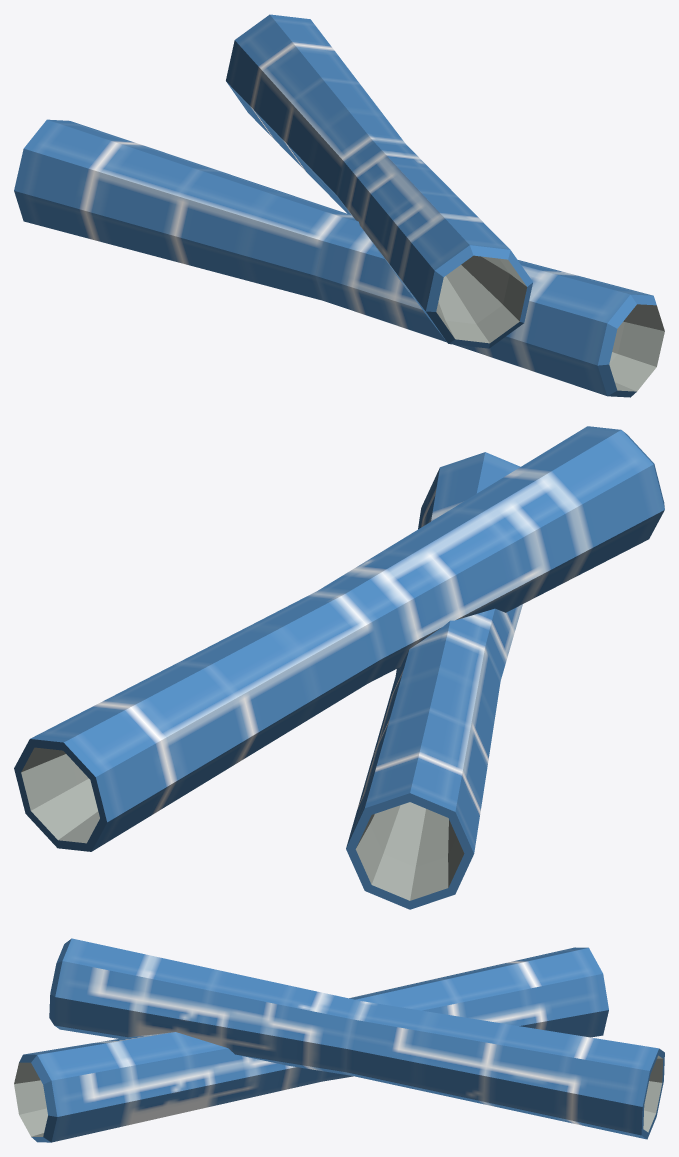
The model's file is SM_Prop_Plans_10.fbx.
3 views of the same model, one above another, from view 1: azimuth 30°, elevation 25°; view 2: azimuth 150°, elevation 25°; view 3: azimuth 270°, elevation 25° (orthographic). The views are drawn at different scales.
Visible parts, largest first — view 1: SM_Prop_Plans_10; view 2: SM_Prop_Plans_10; view 3: SM_Prop_Plans_10.
Part boxes in pixels (left/top/right/bottom): SM_Prop_Plans_10: left=14, top=14, right=664, bottom=397; SM_Prop_Plans_10: left=14, top=426, right=664, bottom=909; SM_Prop_Plans_10: left=14, top=938, right=664, bottom=1142.
Bounding box in the file's own units: 39 × 17.65 × 71.45.
